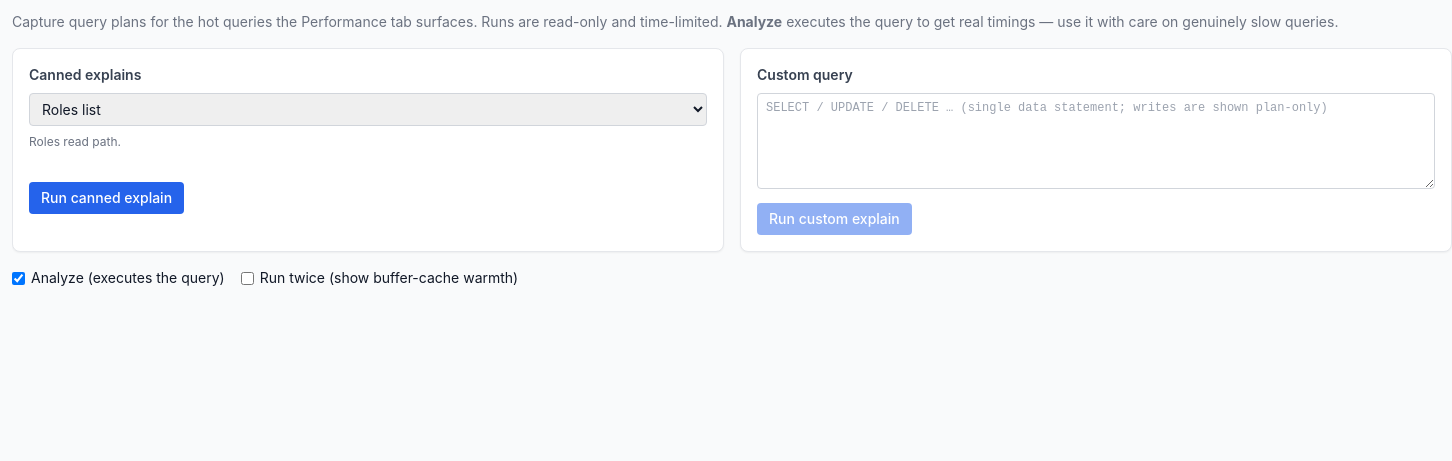
AdminExplainPage › runs a canned explain and shows the plan
Click the button "Run canned explain". click: [107, 198]
box: [29,182,184,214]
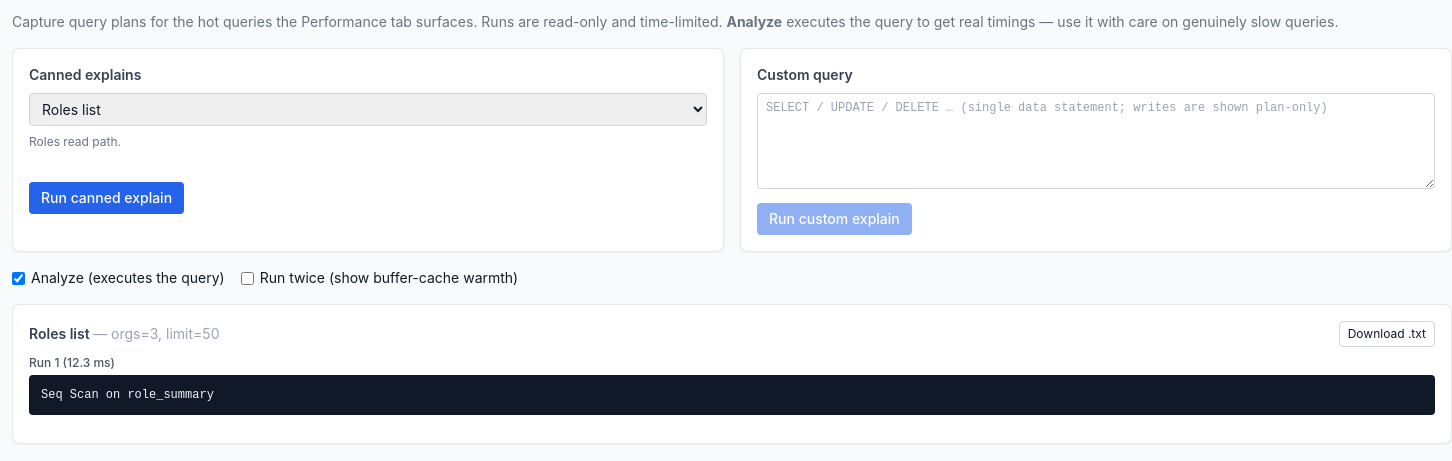
Expected: the text "Seq Scan on role_summary" is shown, [29,375,1435,415]
